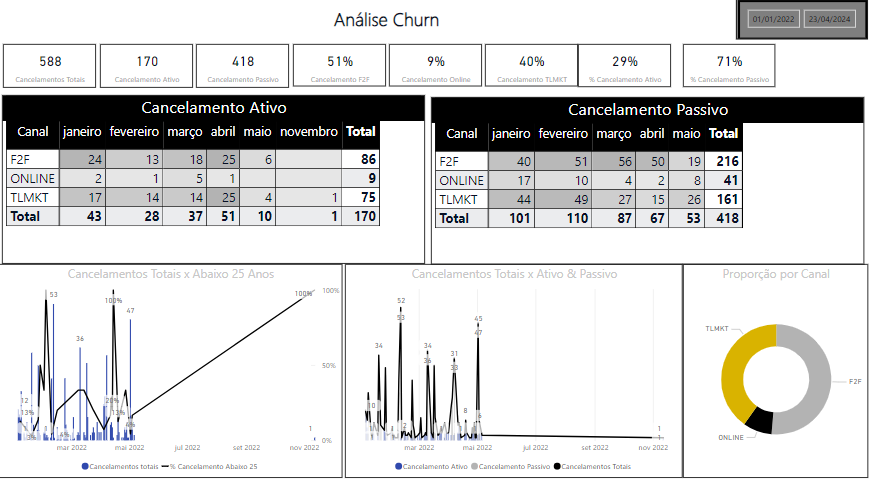

What the dashboard file says about the page in this screenshot:
{"tool":"powerbi","page":{"name":"Página3","canvas":[1280,720],"ordinal":2},"visuals":[{"type":"card","fields":{"Values":["_Medidas.Cancelamentos totais"]},"box":[7.5,72.3,135.9,63.6],"z":3000},{"type":"card","fields":{"Values":["_Medidas.Cancelamento F2F"]},"box":[431.4,72.3,135.9,62.3],"z":4000},{"type":"card","fields":{"Values":["_Medidas.Cancelamentos totais"]},"box":[148.7,72.3,135.9,63.6],"z":5000},{"type":"card","fields":{"Values":["_Medidas.Cancelamentos totais"]},"box":[289.9,72.3,135.9,63.6],"z":6000},{"type":"card","fields":{"Values":["_Medidas.Cancelamento Online"]},"box":[572.3,72.3,135.9,62.3],"z":7000},{"type":"card","fields":{"Values":["_Medidas.Cancelamento TLMKT"]},"box":[713.1,72.3,135.9,62.3],"z":8000},{"type":"card","fields":{"Values":["_Medidas.Cancelamento Ativo"]},"box":[848.8,71.7,136.1,62.9],"z":9000},{"type":"card","fields":{"Values":["_Medidas.Cancelamento Passivo"]},"box":[1002.4,71.7,134.6,62.9],"z":11000},{"type":"pivotTable","title":"Cancelamento Ativo","fields":{"Rows":["Report2.Canal1","Report2.Motivo Cancelamento1"],"Values":["_Medidas.Cancelamentos totais"],"Columns":["Calendario.Data.Variation.Hierarquia de datas.Mês"]},"box":[6.1,146.5,619,247],"z":12000},{"type":"lineClusteredColumnComboChart","title":"Cancelamentos Totais x Abaixo 25 Anos","fields":{"Y":["_Medidas.Cancelamentos totais"],"Y2":["_Medidas.% Cancelamento Abaixo 25"],"Category":["Calendario.Data.Variation.Hierarquia de datas.Mês"]},"box":[0,393.5,504.2,312.6],"z":13000},{"type":"lineClusteredColumnComboChart","title":"Cancelamentos Totais x Ativo & Passivo","fields":{"Category":["Calendario.Data.Variation.Hierarquia de datas.Mês"],"Y2":["_Medidas.Cancelamentos totais"],"Y":["_Medidas.Cancelamento Ativo","_Medidas.Cancelamento Passivo"]},"box":[508.3,393.5,494,312.6],"z":14000},{"type":"donutChart","title":"Proporção por Canal","fields":{"Y":["_Medidas.Cancelamentos totais"],"Series":["Report2.Canal"]},"box":[1001.8,393.8,270.8,312.6],"z":15000},{"type":"basicShape","box":[1079.4,6.2,193.2,59.1],"z":16000},{"type":"slicer","fields":{"Values":["Calendario.Data"]},"box":[1084.3,11.1,183.4,49.2],"z":17000},{"type":"pivotTable","title":"Cancelamento Passivo","fields":{"Values":["_Medidas.Cancelamentos totais"],"Rows":["Report2.Canal","Report2.Motivo Cancelamento"],"Columns":["Calendario.Data.Variation.Hierarquia de datas.Mês","Calendario.Data.Variation.Hierarquia de datas.Dia"]},"box":[633.3,148.6,634.4,244.9],"z":18000},{"type":"textbox","box":[102.4,11.7,932.2,60],"z":18001}]}

Visuals, with their boxes in screenshot pixels (x1, y1, x2, y2), scaled from the page's 1280x720 canvas onto the 871x479 screenshot:
card - _Medidas.Cancelamentos totais: <bbox>5, 48, 98, 90</bbox>
card - _Medidas.Cancelamento F2F: <bbox>294, 48, 386, 90</bbox>
card - _Medidas.Cancelamentos totais: <bbox>101, 48, 194, 90</bbox>
card - _Medidas.Cancelamentos totais: <bbox>197, 48, 290, 90</bbox>
card - _Medidas.Cancelamento Online: <bbox>389, 48, 482, 90</bbox>
card - _Medidas.Cancelamento TLMKT: <bbox>485, 48, 578, 90</bbox>
card - _Medidas.Cancelamento Ativo: <bbox>578, 48, 670, 90</bbox>
card - _Medidas.Cancelamento Passivo: <bbox>682, 48, 774, 90</bbox>
"Cancelamento Ativo" pivotTable: <bbox>4, 97, 425, 262</bbox>
"Cancelamentos Totais x Abaixo 25 Anos" lineClusteredColumnComboChart: <bbox>0, 262, 343, 470</bbox>
"Cancelamentos Totais x Ativo & Passivo" lineClusteredColumnComboChart: <bbox>346, 262, 682, 470</bbox>
"Proporção por Canal" donutChart: <bbox>682, 262, 866, 470</bbox>
basicShape: <bbox>734, 4, 866, 43</bbox>
slicer - Calendario.Data: <bbox>738, 7, 863, 40</bbox>
"Cancelamento Passivo" pivotTable: <bbox>431, 99, 863, 262</bbox>
textbox: <bbox>70, 8, 704, 48</bbox>
